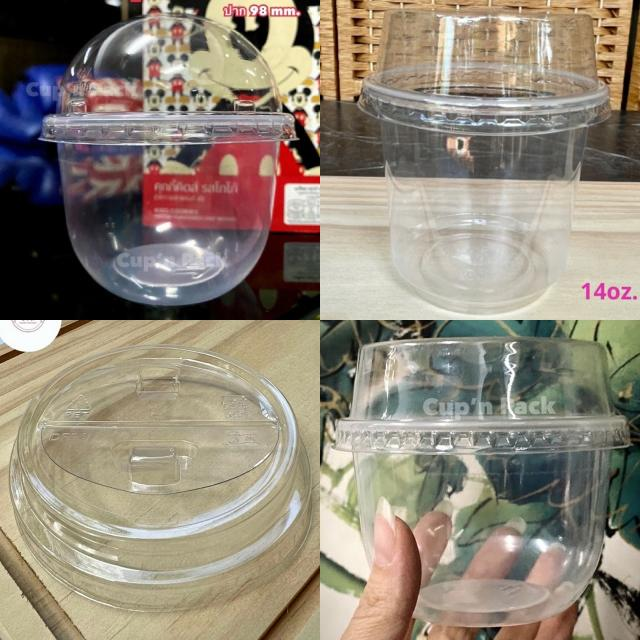Single-Use-Plastic: (336, 338, 630, 628), (10, 345, 311, 611), (359, 10, 610, 313), (41, 14, 295, 306)
